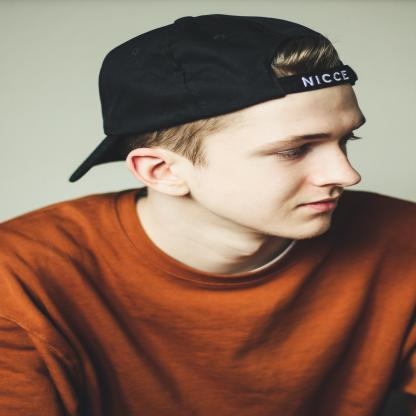Eye: (266, 140, 318, 162), (338, 127, 365, 148)
Mouth: (294, 190, 348, 216)
Nose: (314, 146, 362, 190)
